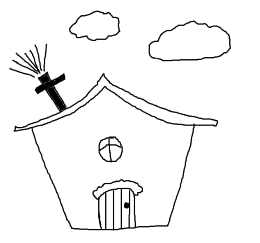closed_window: (94, 133, 128, 165)
clouds: (144, 15, 235, 66), (66, 7, 126, 44)
door: (91, 175, 142, 234)
roof: (10, 73, 218, 134)
smoking_chimney: (8, 39, 73, 121)
wall: (28, 115, 199, 234)
